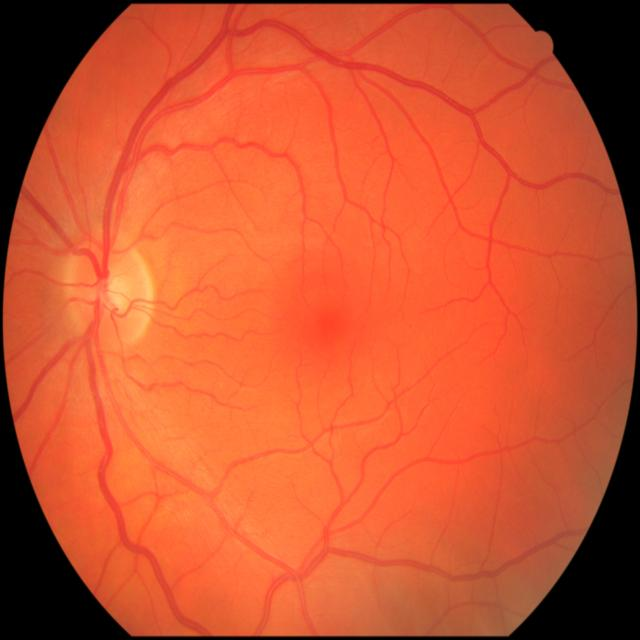OC: (101, 273, 129, 307)
OD: (61, 235, 152, 348)
